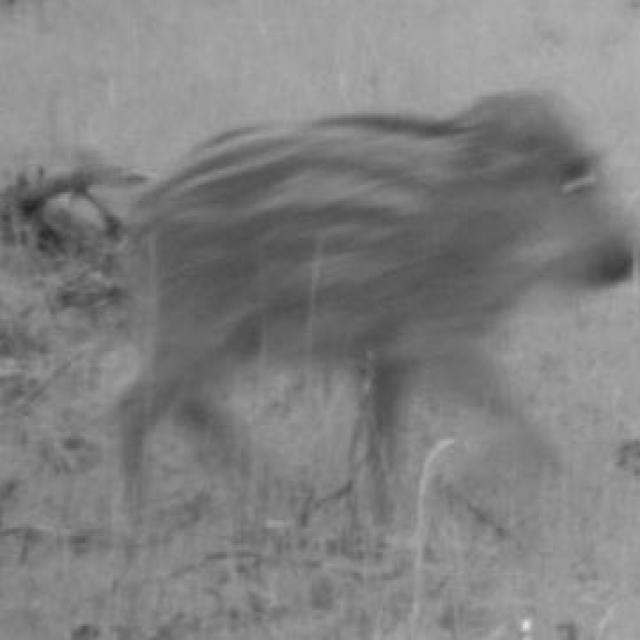pig: (105, 84, 640, 515)
